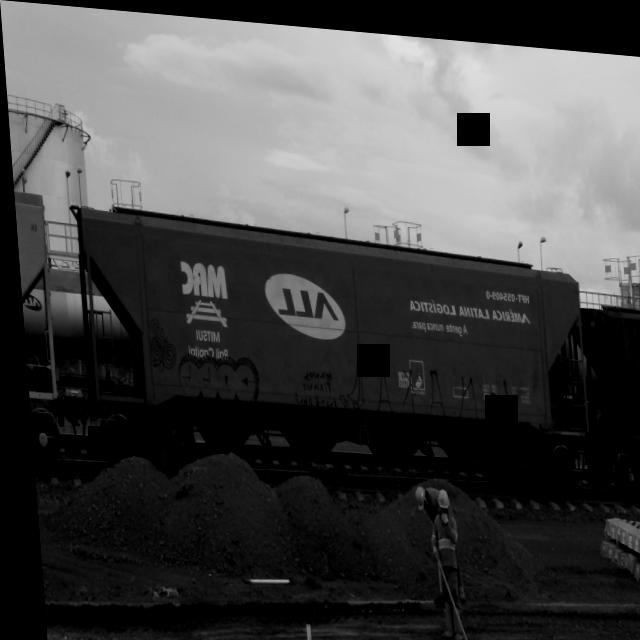hopper: (63, 175, 585, 487), (10, 179, 67, 471), (578, 266, 640, 493)
